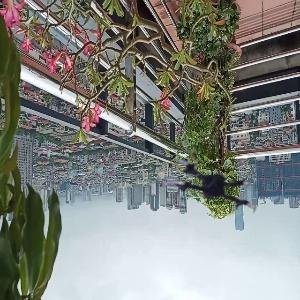drone: (160, 147, 257, 244)
